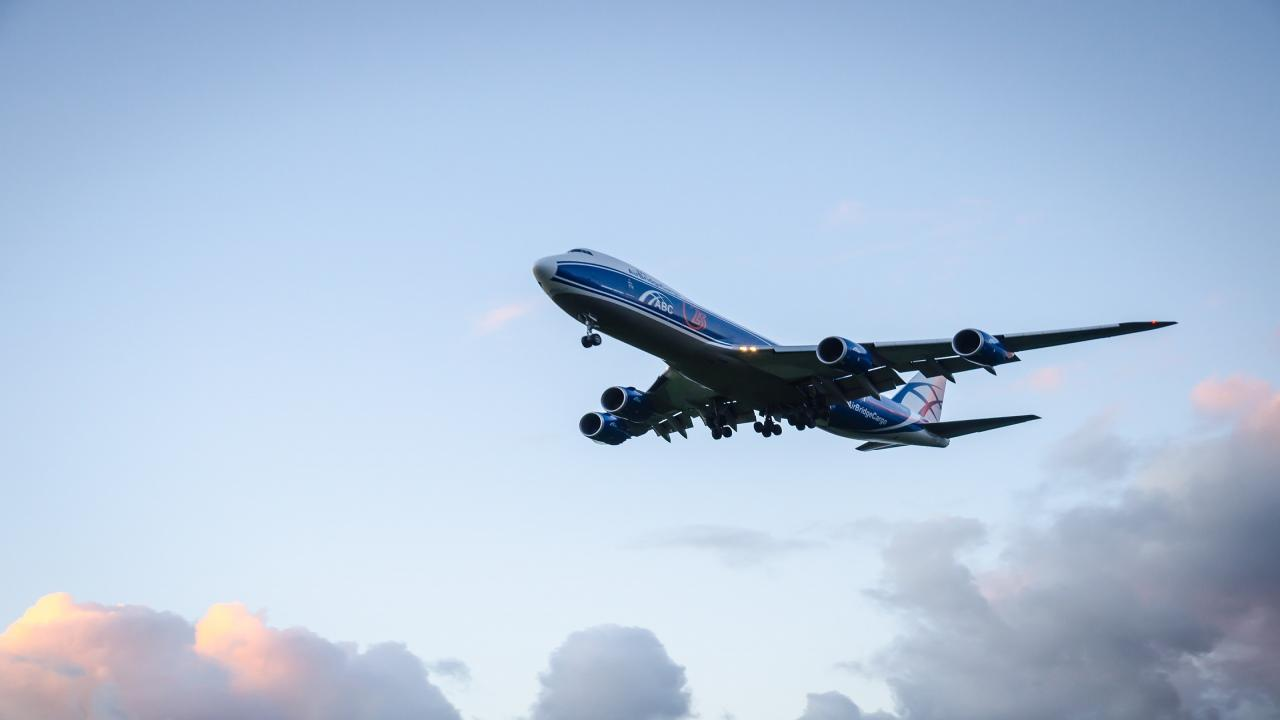Airplane: (514, 230, 1190, 465)
